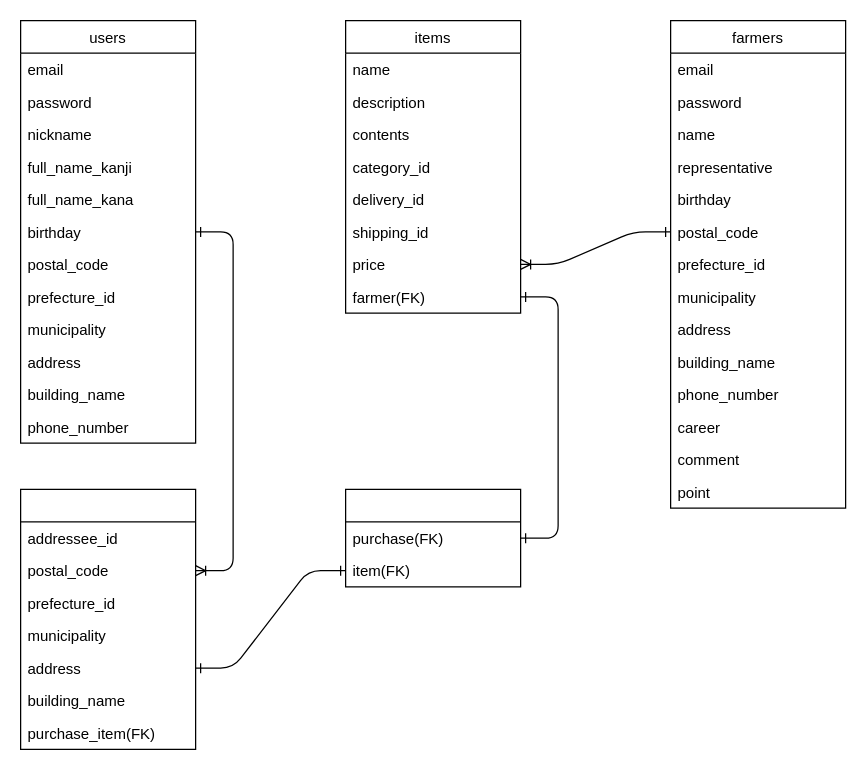
This 866x770 diagram has some shape labels left out. The box of each missing label's shape, as (x1, y1, x2, y2) in pixels:
purchase_items: (344, 488, 521, 587)
purchases: (19, 488, 196, 749)
